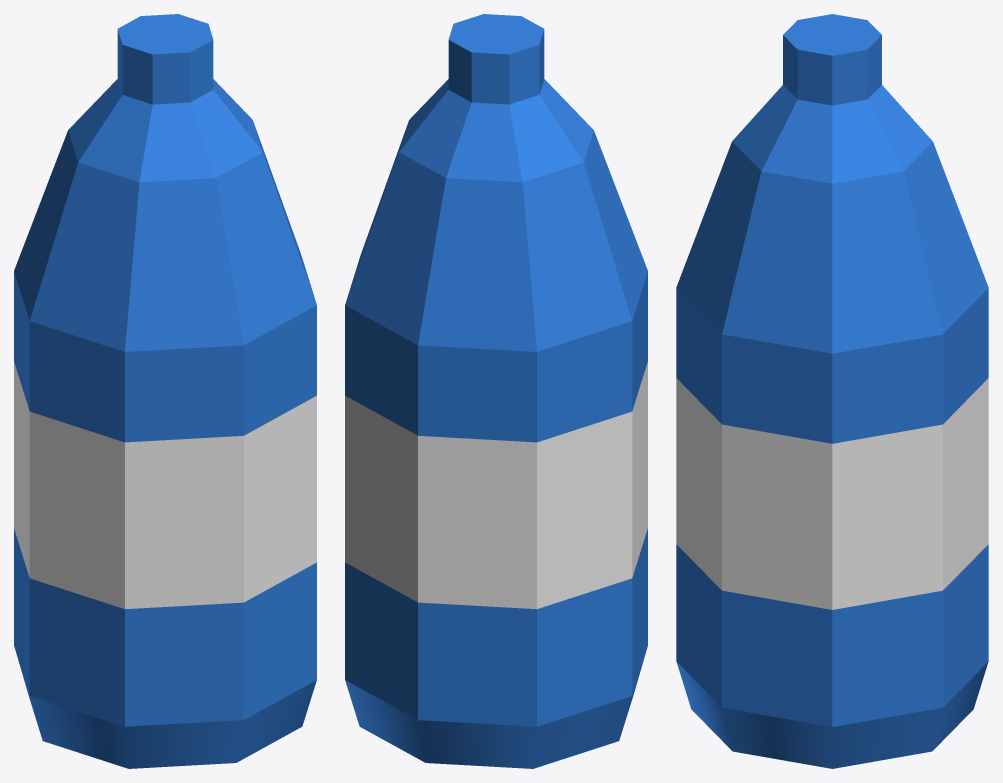
The model's file is BotellaAgua.FBX.
3 views of the same model, side by side, from view 1: azimuth 30°, elevation 25°; view 2: azimuth 150°, elevation 25°; view 3: azimuth 270°, elevation 25° (orthographic).
Visible parts, largest first — view 1: BotellaAgua; view 2: BotellaAgua; view 3: BotellaAgua.
Boxes of the visible parts, x1,y1,x2,y2 form: BotellaAgua: (14, 14, 316, 768); BotellaAgua: (345, 14, 647, 768); BotellaAgua: (676, 14, 988, 768).
Size of the model in its own units: 0.1762 by 0.4196 by 0.1762.
